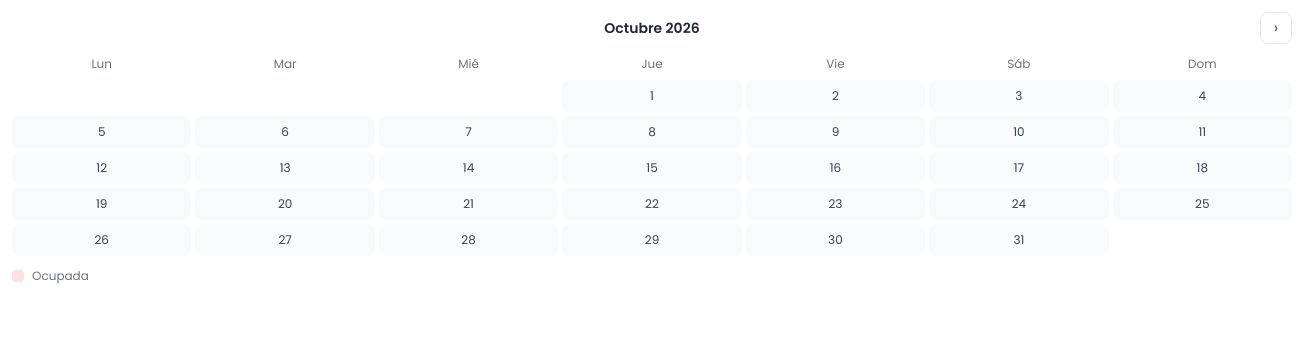
AvailabilityCalendar month navigation (HUC-03 S2, RB-4) › never disables the navigation buttons, even when the visible month is fully occupied
Click the button named "Mes siguiente".
click(1276, 28)  # box [1260, 12, 1292, 44]
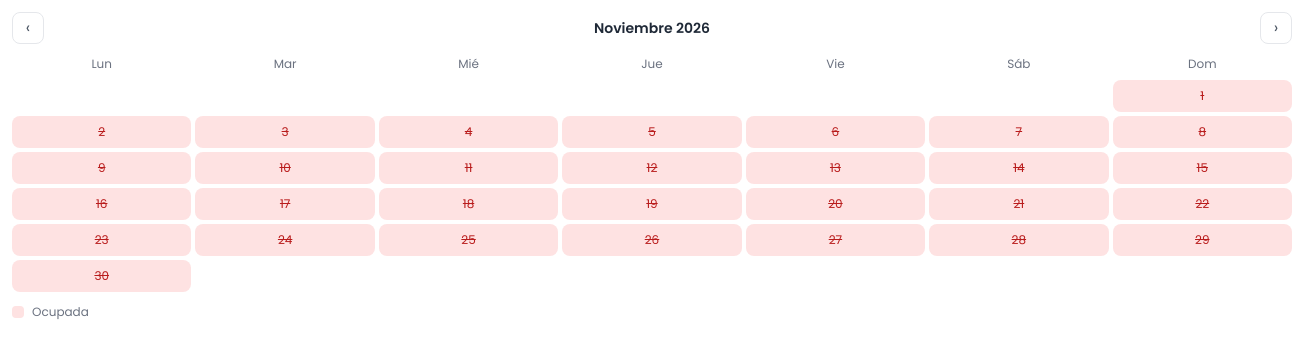
Expected: the button named "Mes anterior" is enabled, [12, 12, 44, 44]
Expected: the button "1" is disabled, [1113, 80, 1292, 112]
